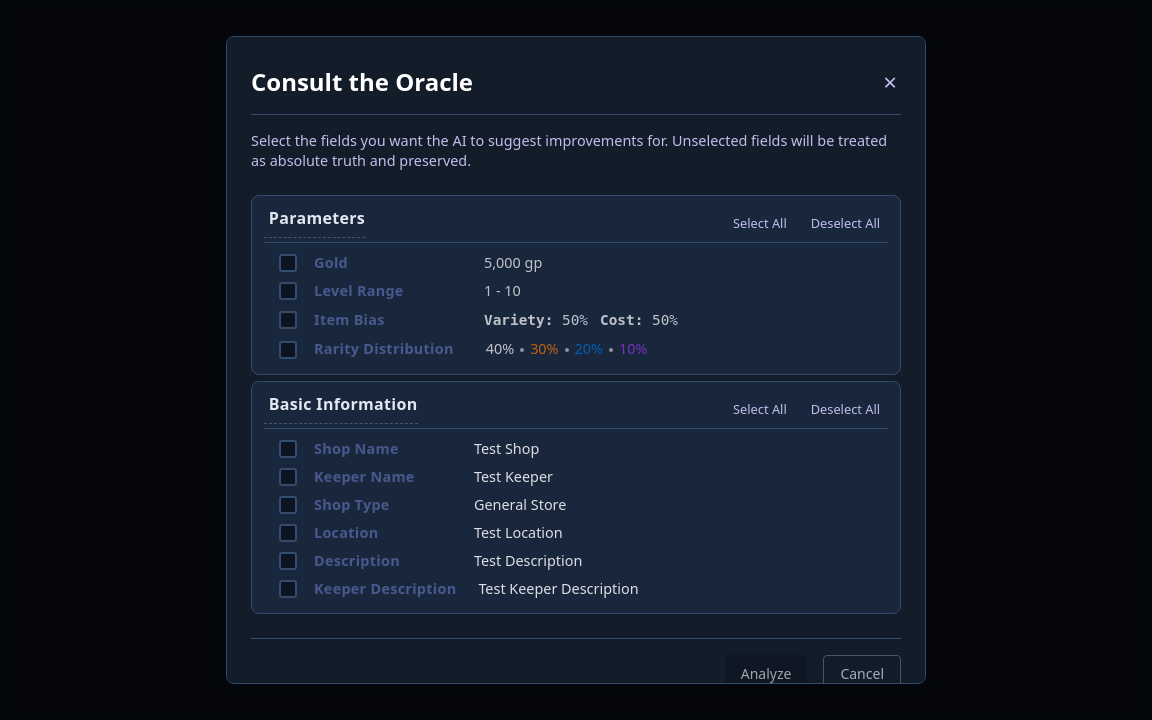
Test: ImprovementDialog Component › displays "The Oracle will offer suggestions..." when field is checked
Find and click the gold field
Click the text "Gold". click: (331, 262)
box: top-left (279, 253), bottom-right (542, 272)
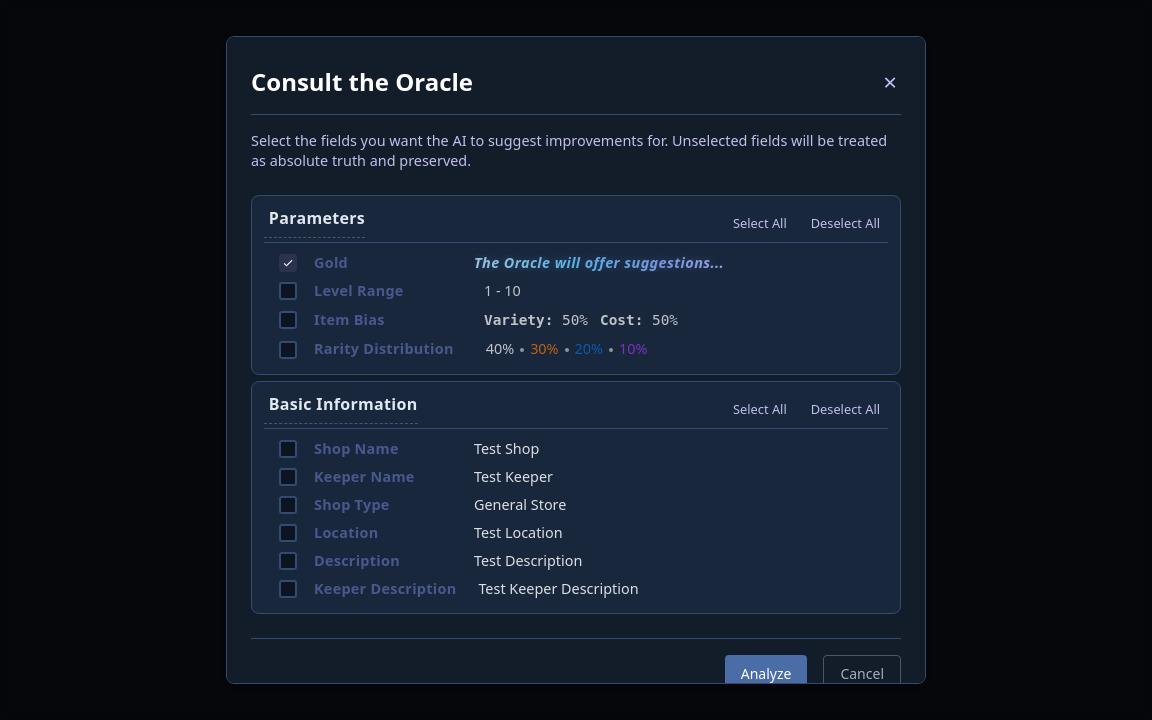
Now the text "The Oracle will offer suggestions..." is shown, box top-left (474, 254), bottom-right (724, 272)
